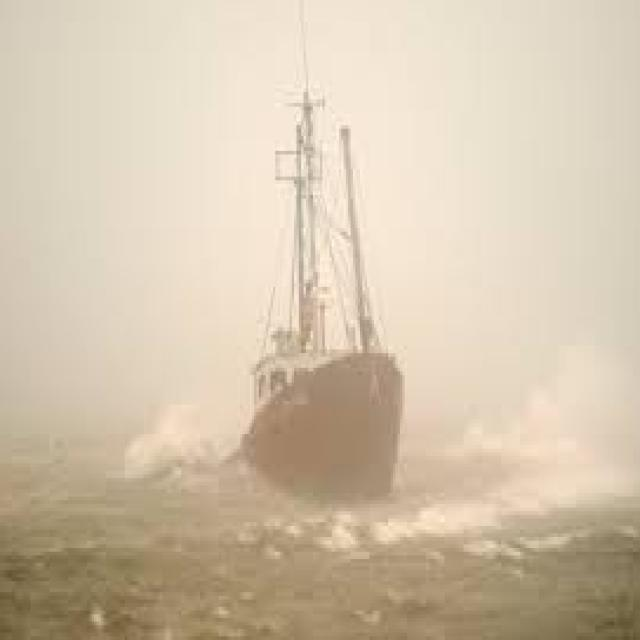fishing boat: (242, 90, 409, 512)
